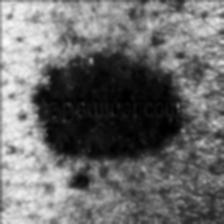Potentially Malignant Skin Tumors: (38, 54, 182, 160)
